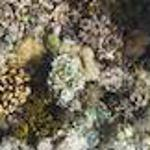alive: (1, 12, 147, 147)
